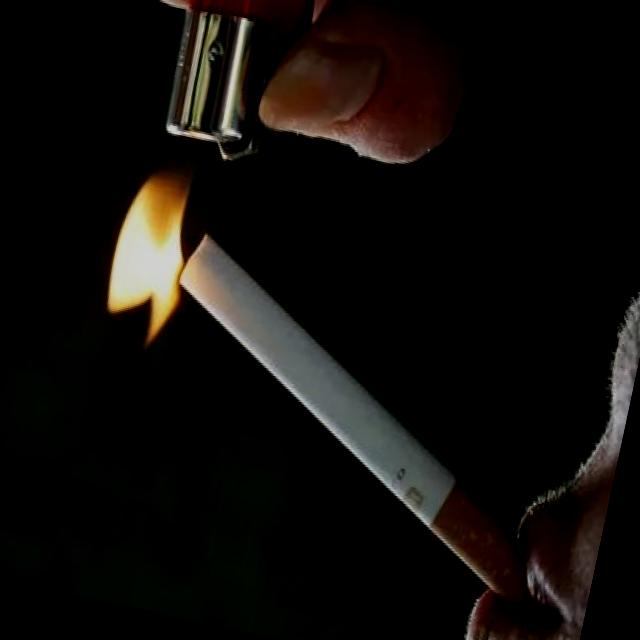cigarette: (121, 227, 592, 618)
